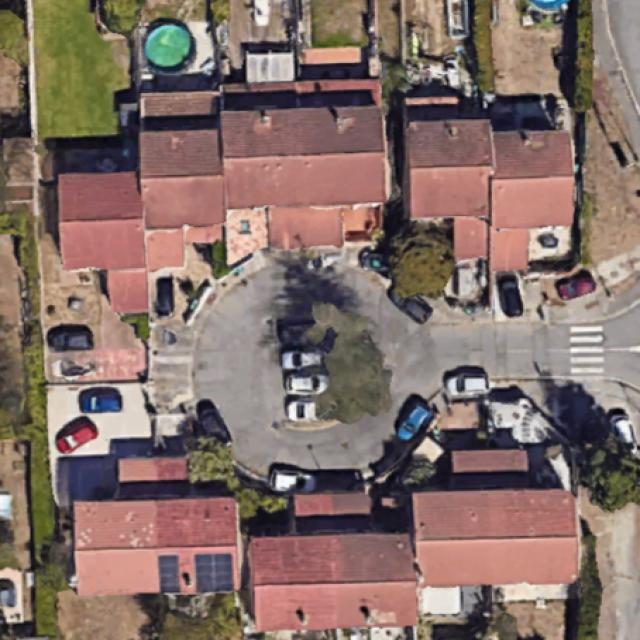maison: (221, 78, 385, 249), (72, 498, 240, 596), (248, 534, 417, 631), (413, 491, 578, 585), (141, 93, 221, 268), (403, 119, 493, 262), (490, 133, 570, 274), (58, 173, 142, 269)
